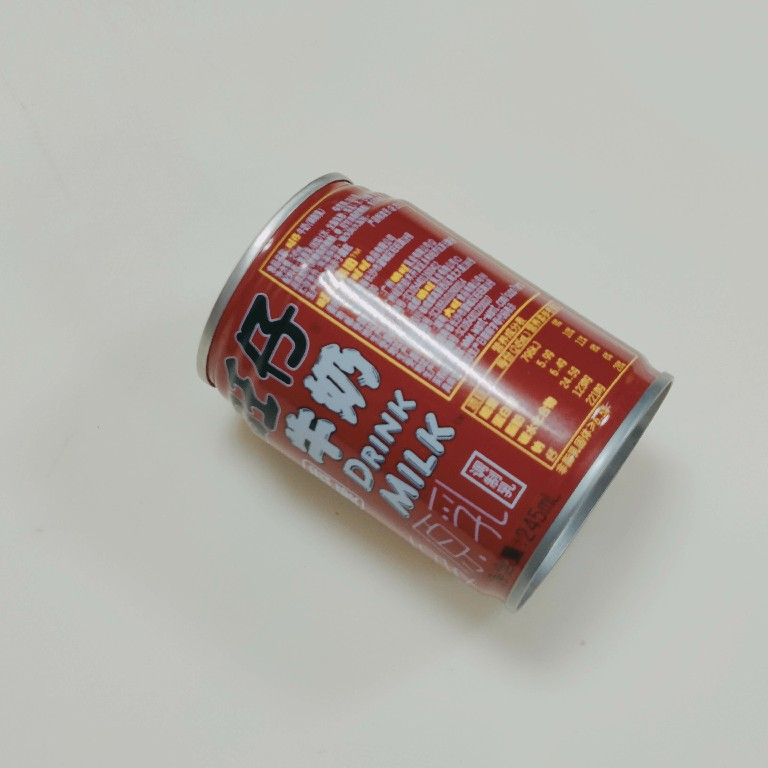can: (186, 166, 678, 618)
